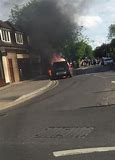smoke: (19, 3, 69, 54)
